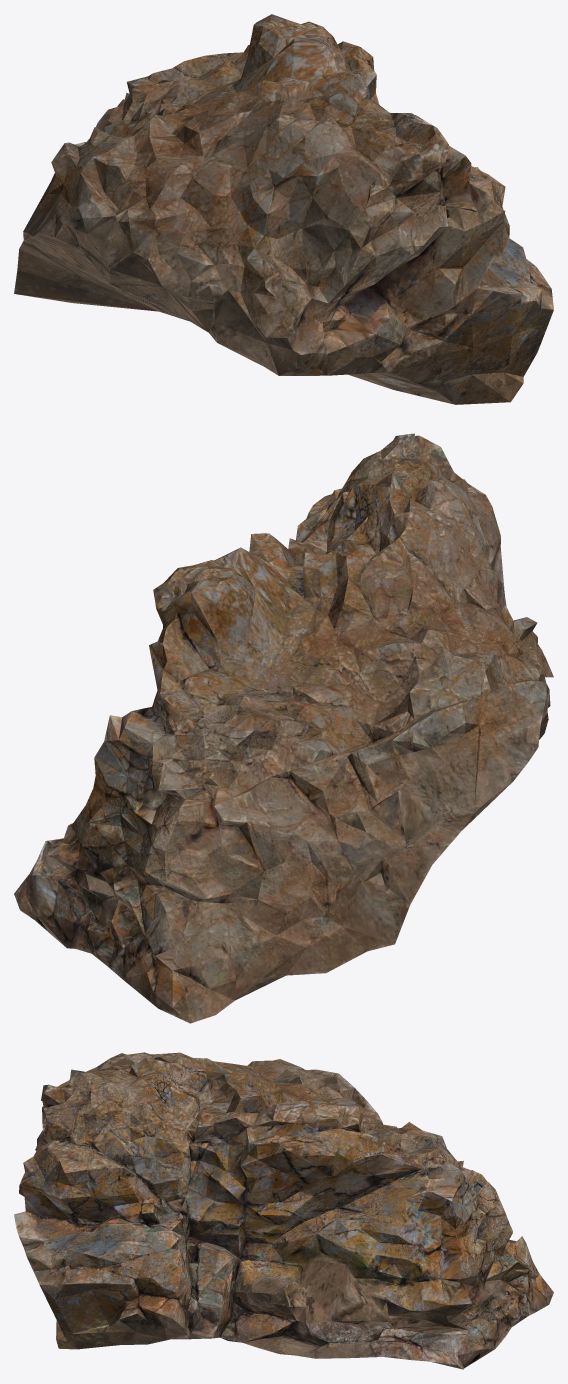
File: boulder_01.glb
3 renders of one model, top to bottom at view 1: azimuth 30°, elevation 25°; view 2: azimuth 150°, elevation 25°; view 3: azimuth 270°, elevation 25°, orthographic. The views are drawn at different scales.
Parts seen in each view (by area): view 1: boulder_01; view 2: boulder_01; view 3: boulder_01.
Boxes of the visible parts, box(x1,y1,x2,y2) form: boulder_01: box(14, 14, 553, 404); boulder_01: box(14, 433, 553, 1023); boulder_01: box(14, 1052, 553, 1369).
Size of the model in its own units: 1.28 by 0.9981 by 1.83.
1 material, 1 textured.
